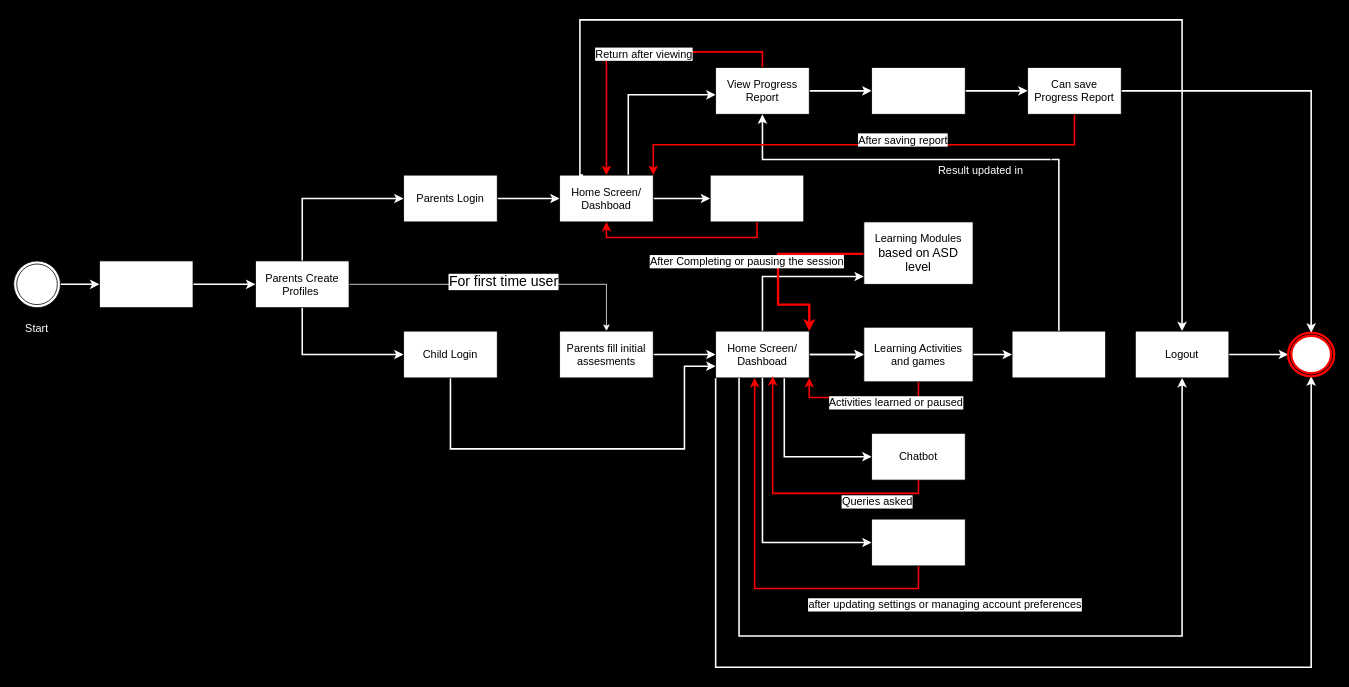
Image size: 1349x687. Some labels were removed from this diagram. Here are the shapes that lost their labels. From the top down, the box of each, then its label:
(871, 67, 965, 114): Generate Progress Report
(709, 174, 804, 222): Feedback
(99, 260, 193, 308): Open App
(1011, 330, 1106, 378): When completed Activity
(1287, 331, 1335, 377): Exit
(871, 518, 965, 566): Settings
